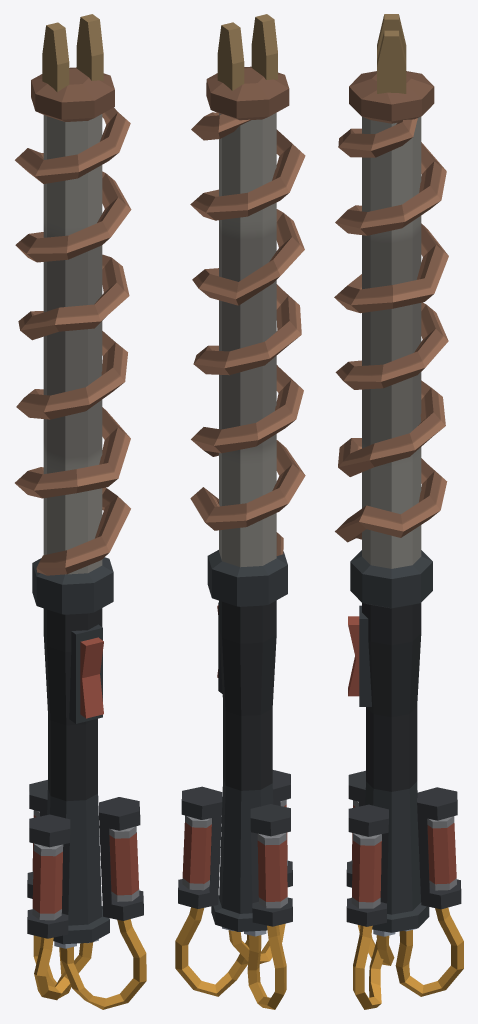
File: SM_Wep_Baton_01.fbx
3 views of the same model, side by side, from view 1: azimuth 30°, elevation 25°; view 2: azimuth 210°, elevation 25°; view 3: azimuth 270°, elevation 25° (orthographic).
Visible parts, largest first — view 1: SM_Wep_Baton_01; view 2: SM_Wep_Baton_01; view 3: SM_Wep_Baton_01.
Part boxes in pixels (x1,y1,x2,y2): SM_Wep_Baton_01: [15, 14, 146, 1009]; SM_Wep_Baton_01: [175, 14, 305, 1009]; SM_Wep_Baton_01: [334, 14, 463, 1009].
Bounding box in the file's own units: 12.61 × 102 × 12.37.
